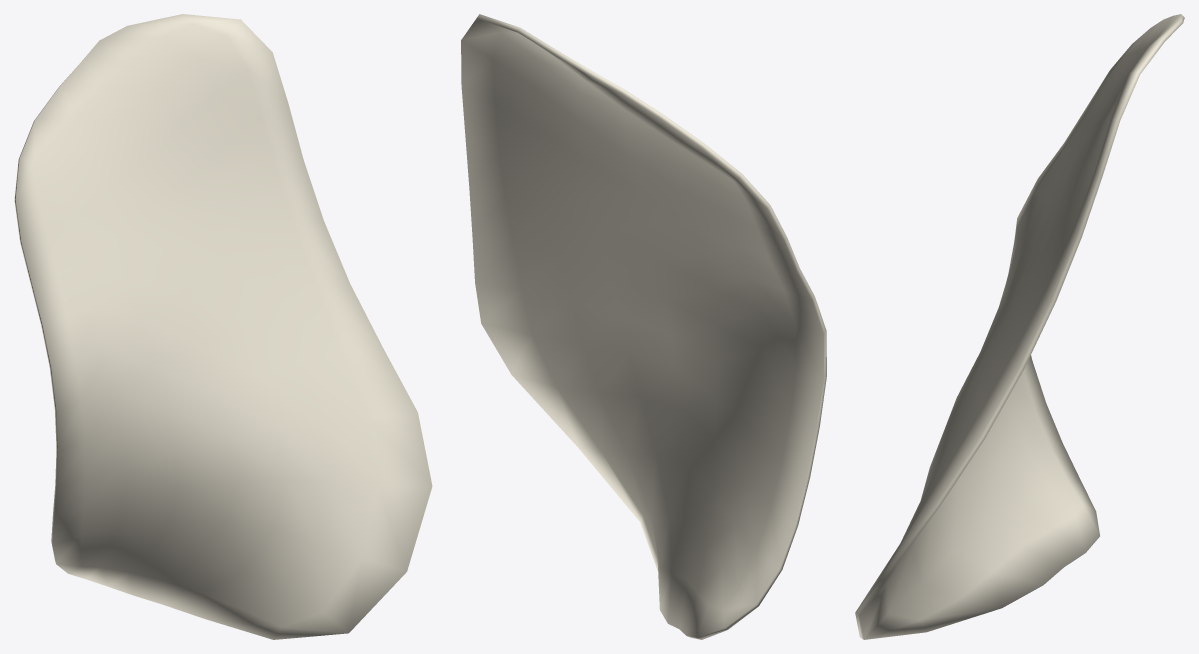
The picture shows the model from 3 angles, left to right: view 1: azimuth 30°, elevation 25°; view 2: azimuth 150°, elevation 25°; view 3: azimuth 270°, elevation 25°; orthographic projection. The views are drawn at different scales.
Visible parts, largest first — view 1: ZA_7c0368c4ee4ec6b1; view 2: ZA_7c0368c4ee4ec6b1; view 3: ZA_7c0368c4ee4ec6b1.
Boxes of the visible parts, bbox=[...] form: ZA_7c0368c4ee4ec6b1: bbox=[14, 14, 432, 639]; ZA_7c0368c4ee4ec6b1: bbox=[461, 14, 826, 639]; ZA_7c0368c4ee4ec6b1: bbox=[855, 14, 1184, 639].
Size of the model in its own units: 0.0402 by 0.0633 by 0.0315.
